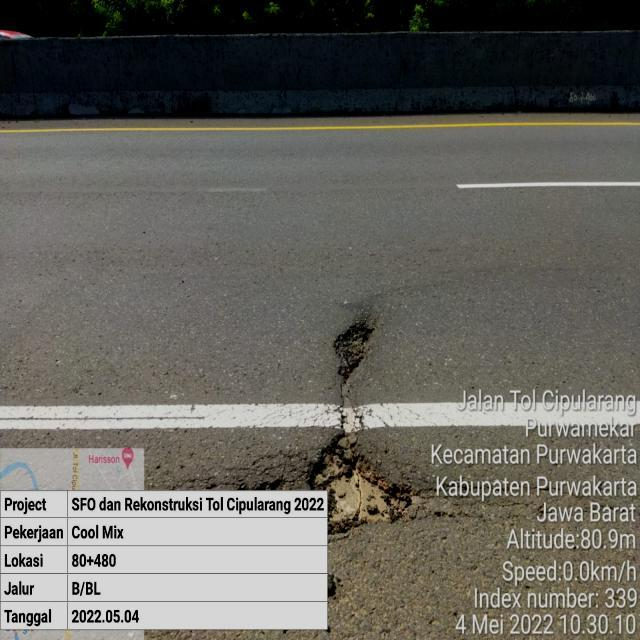Buraco: (303, 430, 436, 539), (329, 318, 379, 388), (246, 473, 294, 491), (326, 572, 348, 604)
